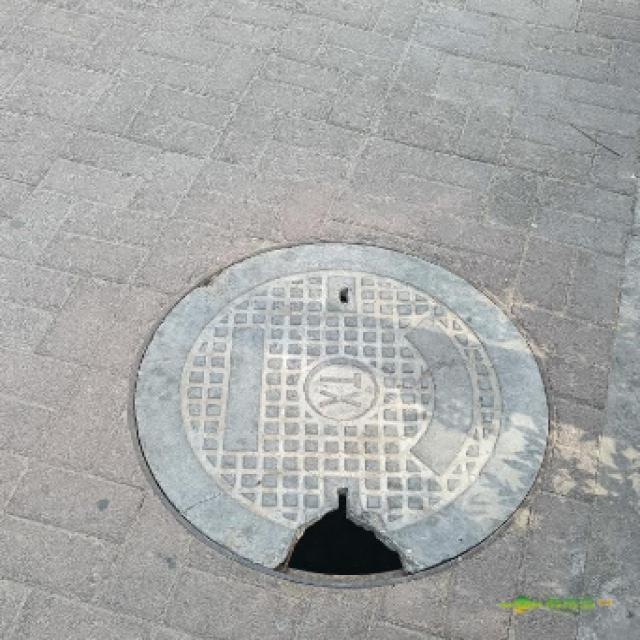manhole: (128, 243, 550, 579)
